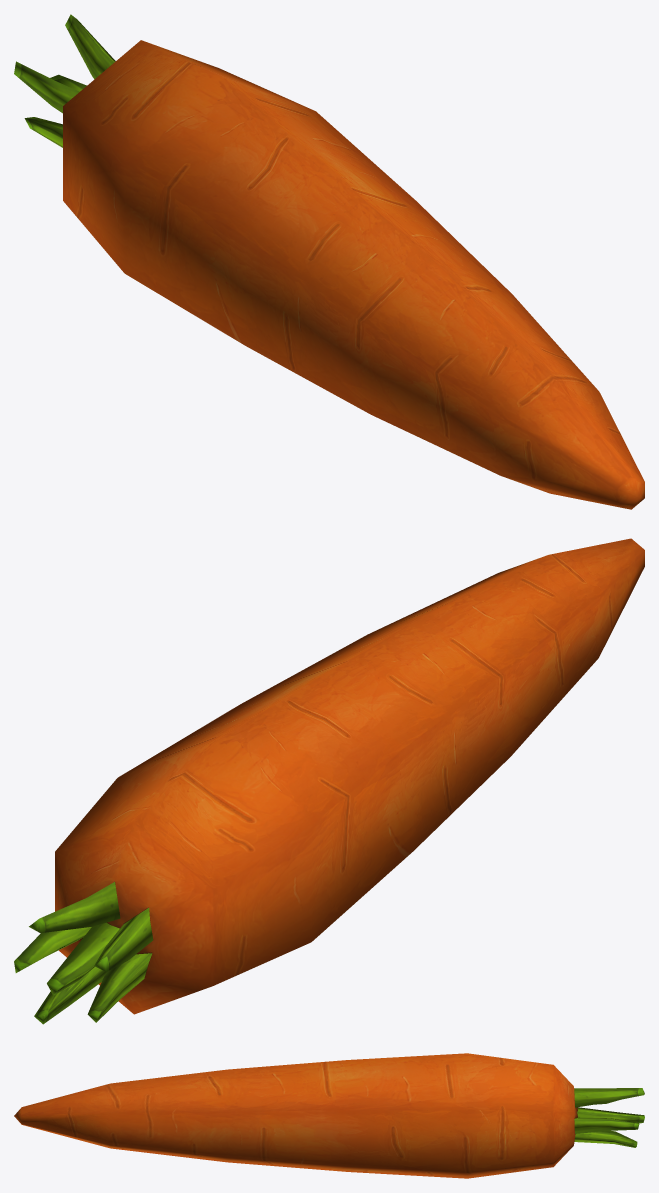
Rendered from Carrot01.fbx.
The picture shows the model from 3 angles, top to bottom: view 1: azimuth 30°, elevation 25°; view 2: azimuth 150°, elevation 25°; view 3: azimuth 270°, elevation 25°; orthographic projection. The views are drawn at different scales.
Visible parts, largest first — view 1: Carrot01_LOD0; view 2: Carrot01_LOD0; view 3: Carrot01_LOD0.
Part boxes in pixels (<box>): Carrot01_LOD0: <box>14,14,644,509</box>; Carrot01_LOD0: <box>14,538,644,1024</box>; Carrot01_LOD0: <box>14,1053,644,1178</box>.
Size of what is drawn, in the model's own units: 0.0629 by 0.0726 by 0.3312.
